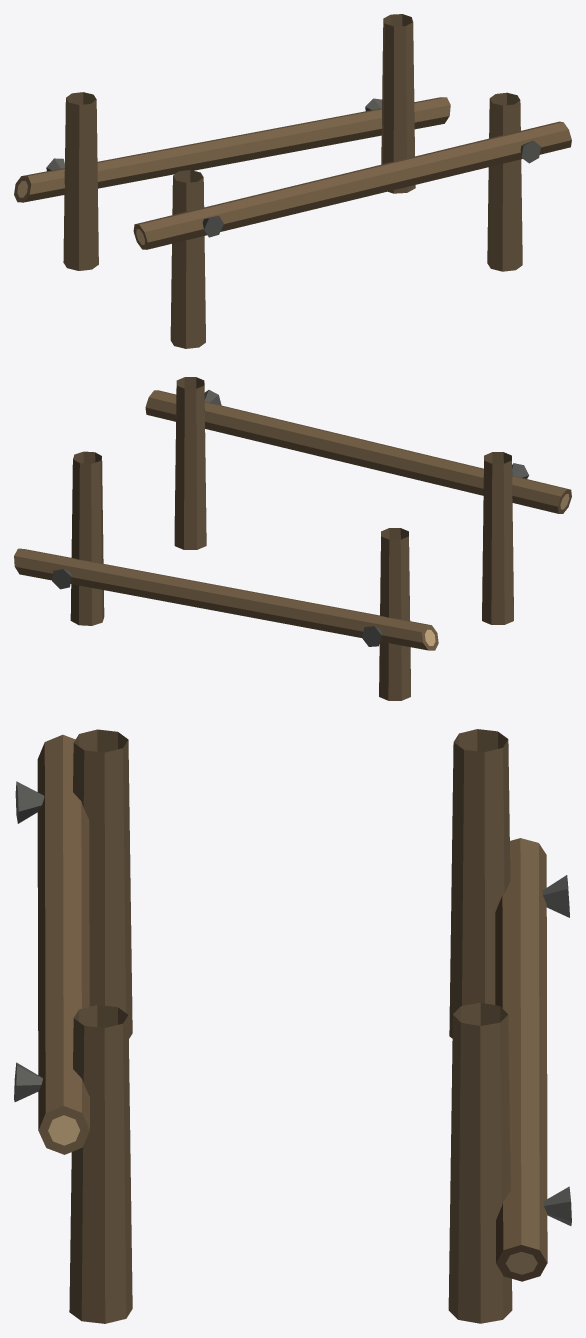
Rendered from rpgpp_ag_wall_platform_02_2x4_support_01a.fbx.
3 renders of one model, top to bottom at view 1: azimuth 30°, elevation 25°; view 2: azimuth 150°, elevation 25°; view 3: azimuth 270°, elevation 25°, orthographic. The views are drawn at different scales.
Parts seen in each view (by area): view 1: rpgpp_ag_wall_platform_02_2x4_support_01a; view 2: rpgpp_ag_wall_platform_02_2x4_support_01a; view 3: rpgpp_ag_wall_platform_02_2x4_support_01a.
Boxes of the visible parts, x1,y1,x2,y2 form: rpgpp_ag_wall_platform_02_2x4_support_01a: [14, 14, 571, 348]; rpgpp_ag_wall_platform_02_2x4_support_01a: [14, 377, 571, 700]; rpgpp_ag_wall_platform_02_2x4_support_01a: [14, 729, 571, 1323].
Size of the model in its own units: 4.96 by 1.8 by 3.08.
